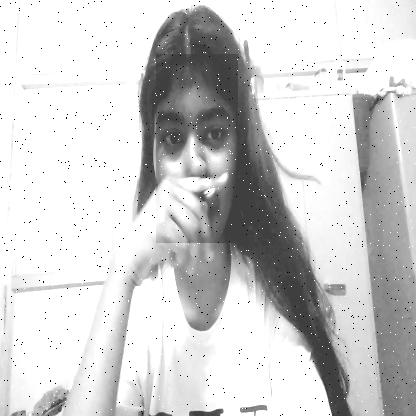Normal: (156, 54, 238, 243)
